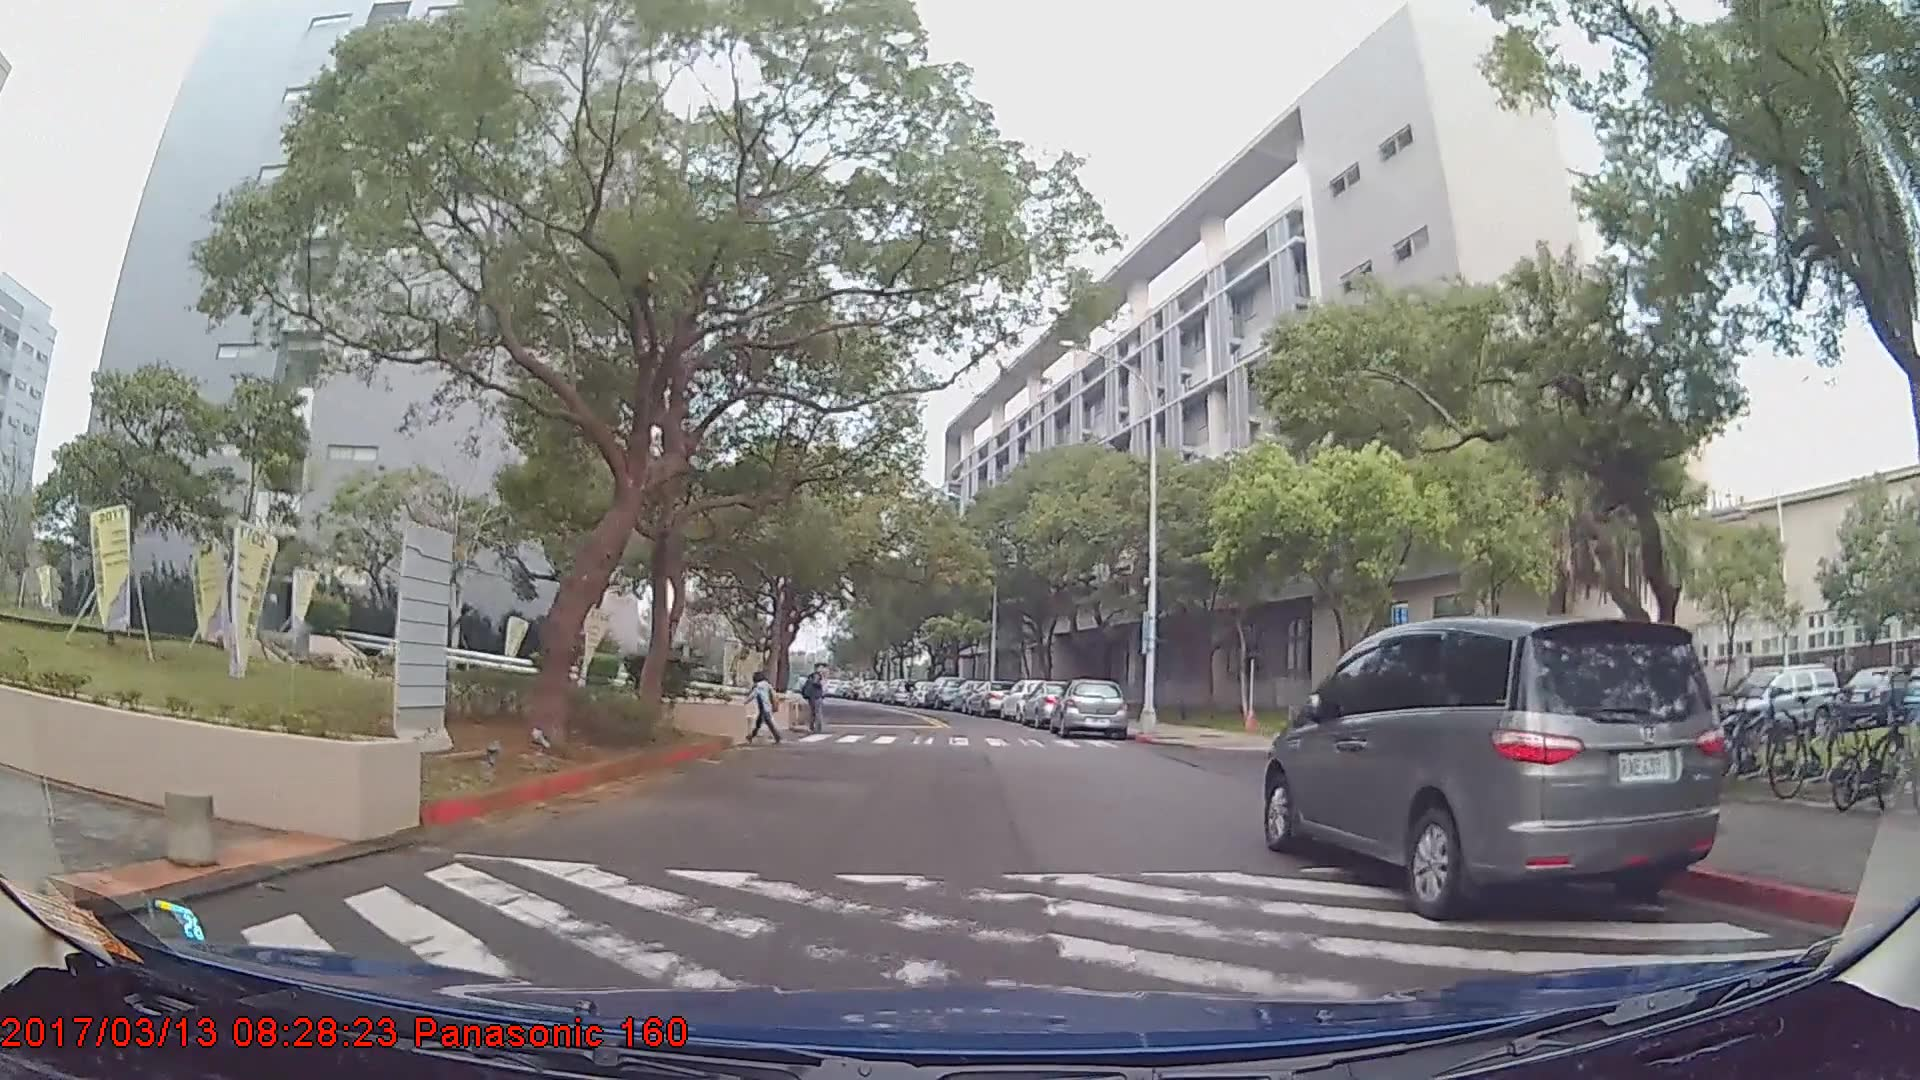pedestrian: (749, 673, 780, 748), (801, 661, 828, 739)
vehicle: (1261, 613, 1727, 921), (1705, 662, 1841, 743), (1837, 663, 1917, 726), (1054, 677, 1129, 739), (1017, 677, 1084, 727), (966, 682, 1010, 717), (921, 674, 963, 709)
